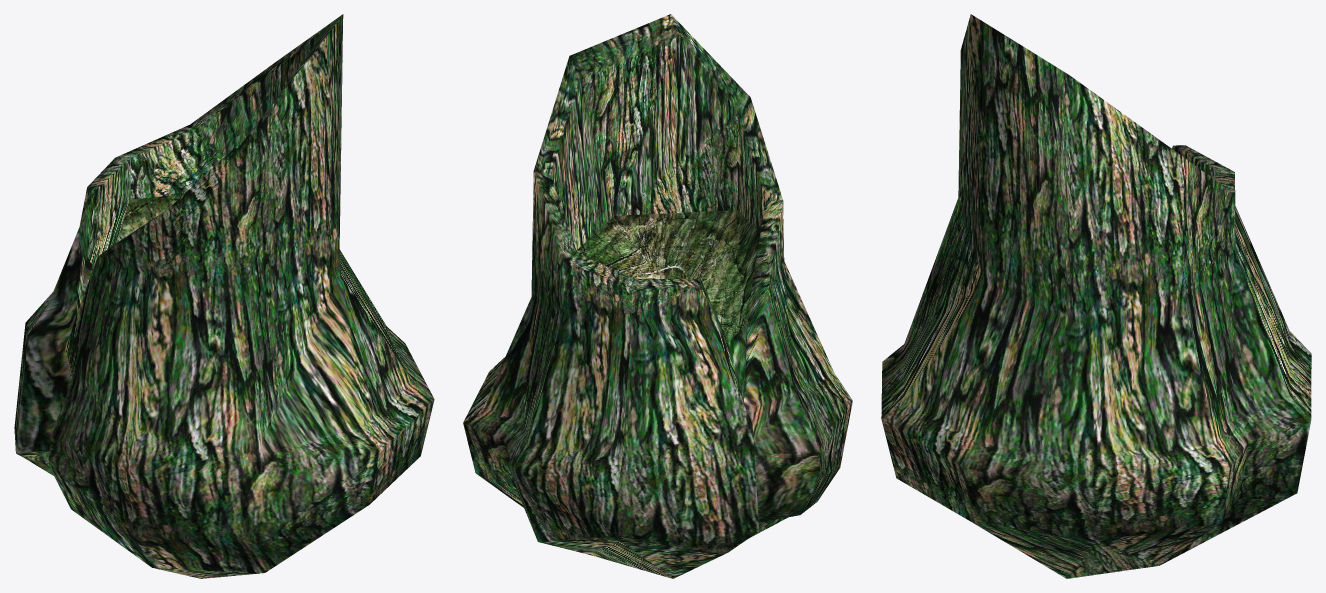
File: frst_conf_redwoodstump_sm_l1.fbx
3 renders of one model, left to right at view 1: azimuth 30°, elevation 25°; view 2: azimuth 150°, elevation 25°; view 3: azimuth 270°, elevation 25°, orthographic. The views are drawn at different scales.
Visible parts, largest first — view 1: mesh_node; view 2: mesh_node; view 3: mesh_node.
Part boxes in pixels (x1=…): mesh_node: x1=14, y1=14, x2=434, y2=578; mesh_node: x1=463, y1=14, x2=852, y2=578; mesh_node: x1=881, y1=14, x2=1311, y2=578.
Size of the model in its own units: 4.1 by 5.99 by 4.07.
